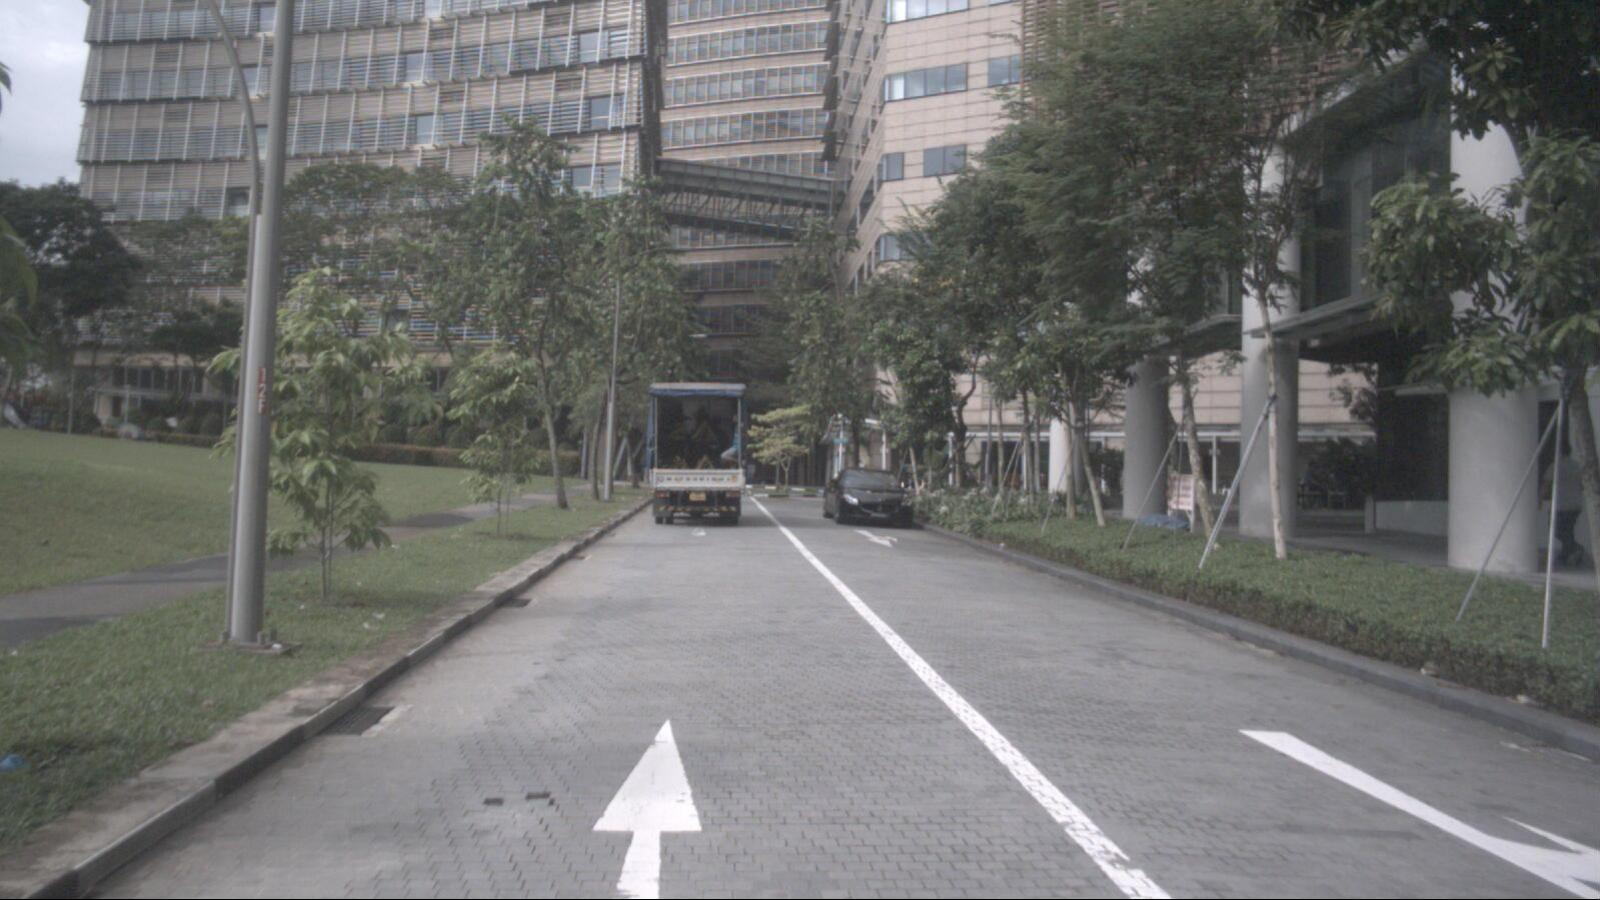human.pedestrian.adult-pedestrian.moving: (1534, 437, 1593, 566)
human.pedestrian.adult-pedestrian.sitting_lying_down: (1303, 460, 1327, 507)
